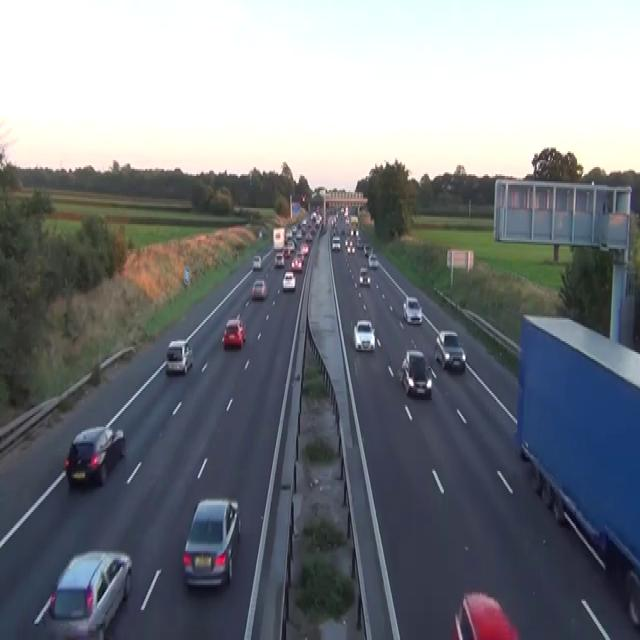Car: (33, 548, 132, 638), (182, 498, 241, 588), (64, 425, 125, 487), (451, 590, 519, 638), (400, 348, 432, 398), (434, 329, 466, 371), (165, 338, 193, 375), (353, 318, 375, 352), (222, 316, 245, 348), (402, 297, 422, 323), (251, 277, 267, 299), (282, 270, 295, 290), (359, 267, 370, 286), (290, 254, 303, 270), (368, 252, 378, 268), (331, 234, 340, 250), (252, 254, 262, 268), (274, 252, 284, 266), (183, 267, 190, 286), (363, 244, 373, 256), (286, 238, 295, 251), (346, 240, 355, 252), (356, 236, 364, 249), (300, 242, 308, 254), (282, 247, 290, 258), (296, 251, 304, 261), (350, 215, 358, 224), (285, 228, 292, 238), (350, 228, 358, 236), (305, 233, 312, 242), (295, 230, 302, 238), (301, 217, 307, 226), (344, 215, 350, 224), (300, 194, 306, 202), (291, 224, 296, 233), (258, 228, 262, 238), (344, 238, 348, 247)
Truck: (514, 313, 639, 627), (273, 226, 285, 250)
